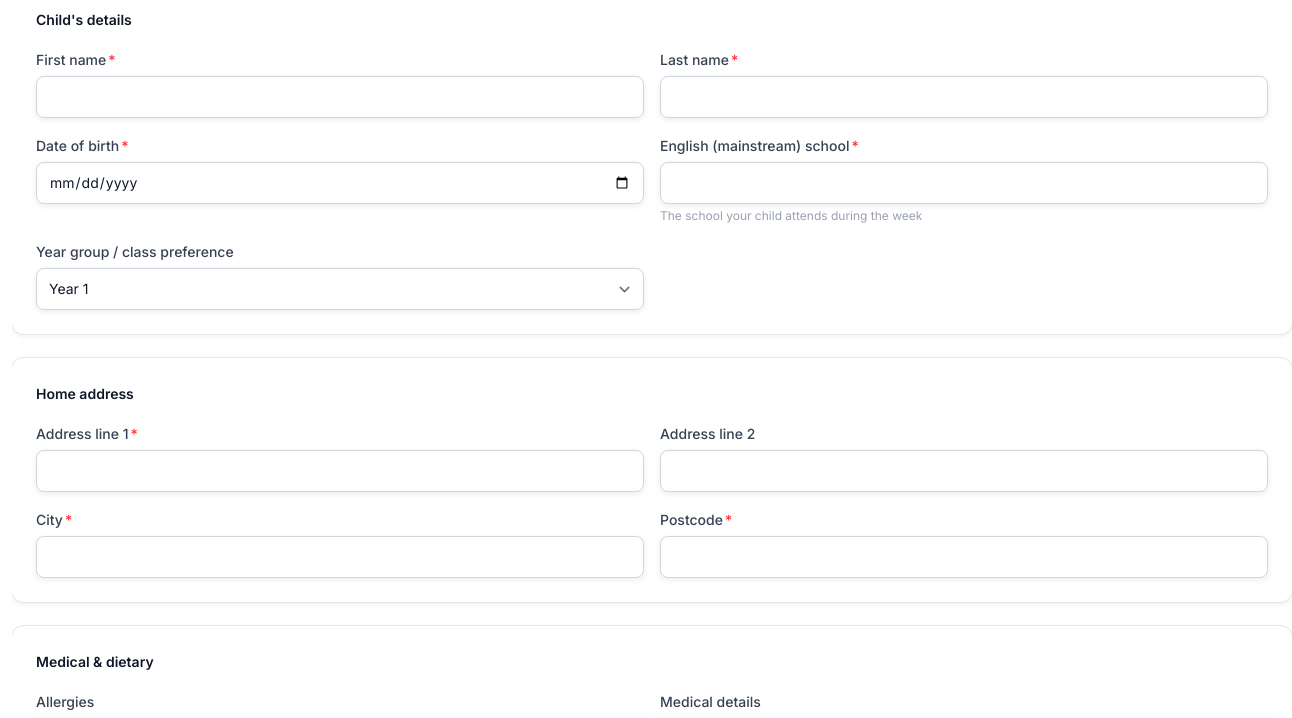
RegistrationForm › may leave unaccompanied › is unticked, and so not submitted, when the date of birth changes to a younger child
The width and height of the screenshot is (1292, 718).
Type "2010-01-01" into the date field labelled "Date of birth*" at (340, 183), box [36, 162, 644, 204]
(page scrolled)
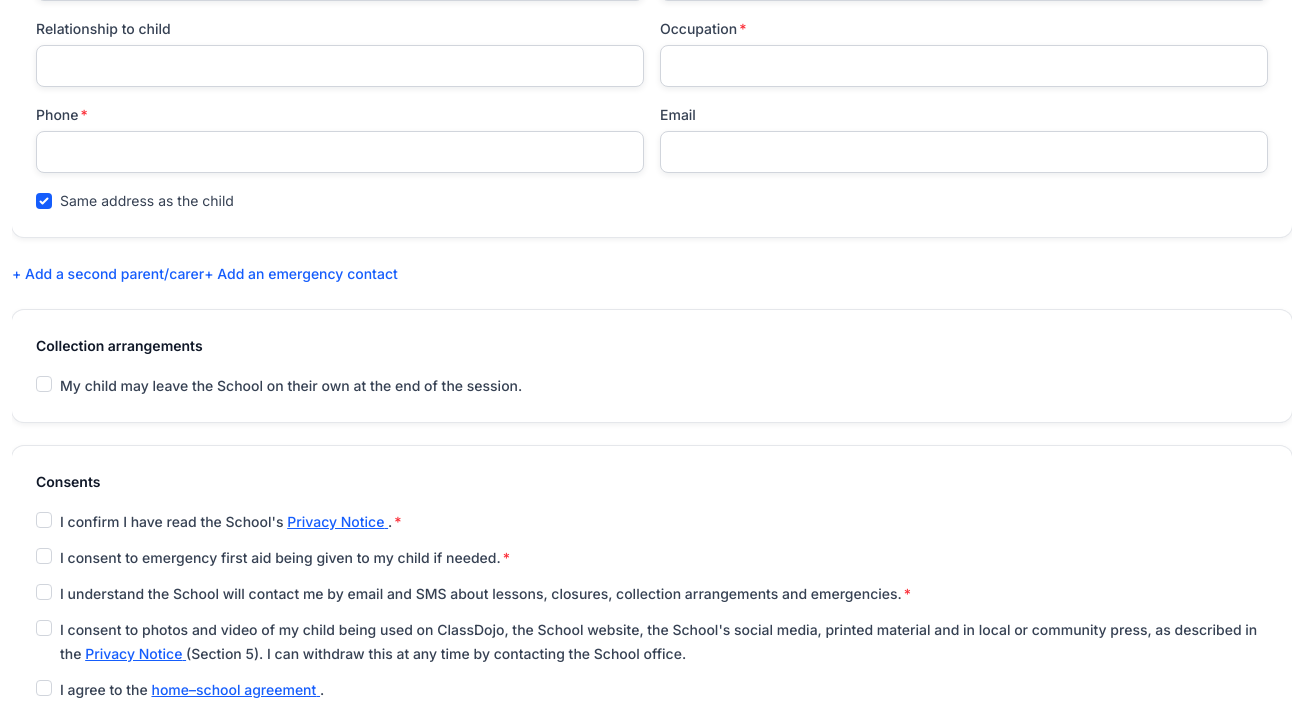
Click the checkbox labelled "My child may leave the School on their own at the end of the session." at (44, 384), box [36, 376, 52, 392]
(page scrolled)
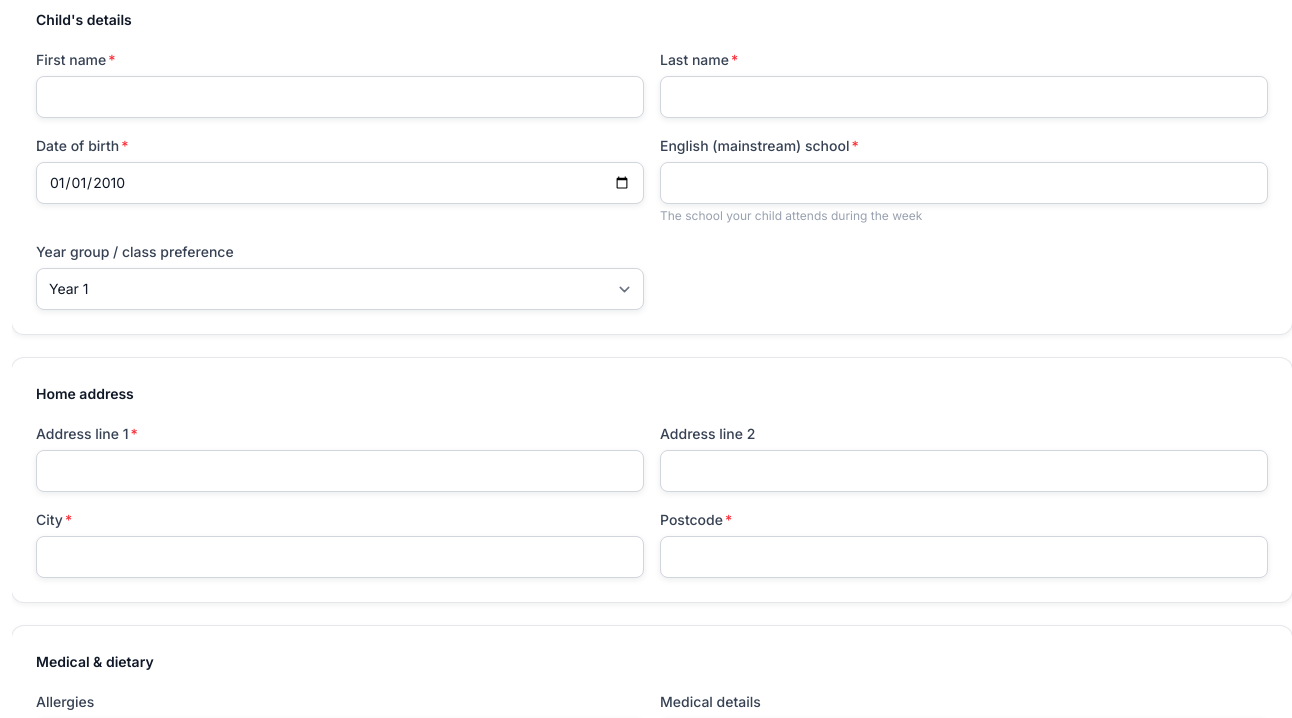
Type "2020-01-01" into the date field labelled "Date of birth*" at (340, 183), box [36, 162, 644, 204]
(page scrolled)
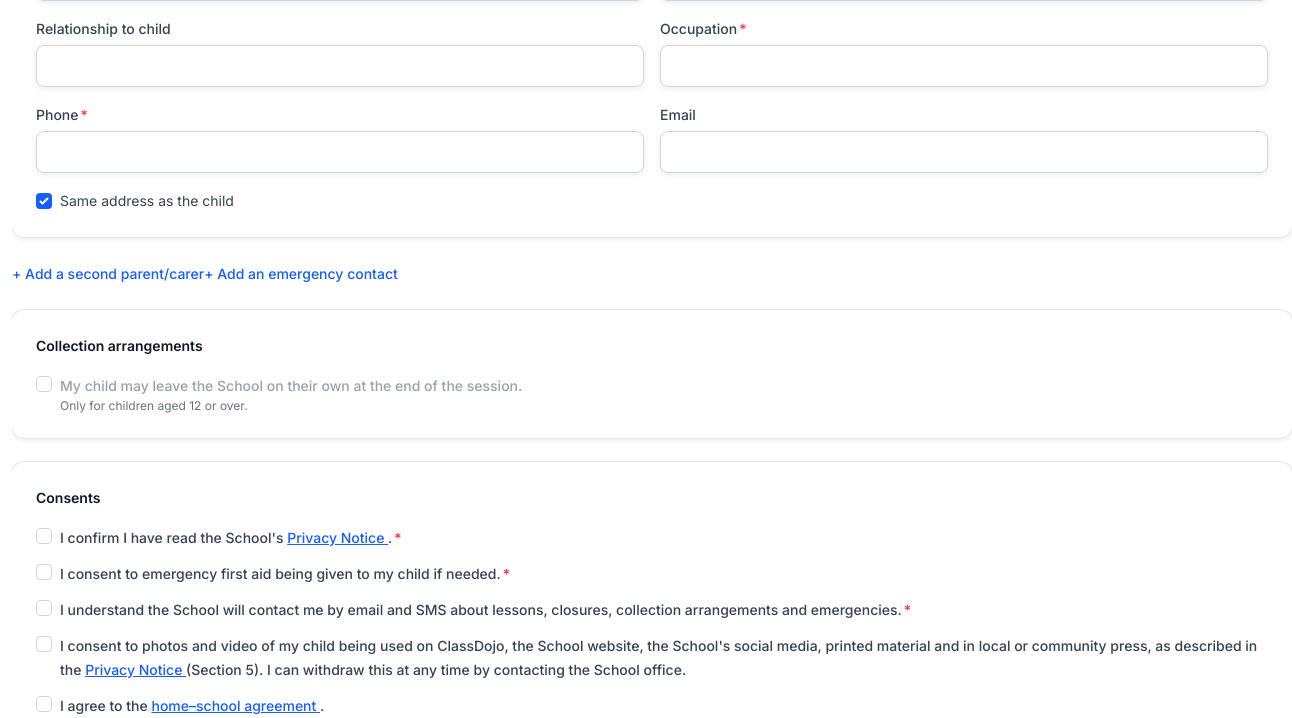
Result: the checkbox labelled "My child may leave the School on their own at the end of the session." is not checked at [36, 376, 52, 392]
Result: the checkbox labelled "My child may leave the School on their own at the end of the session." is disabled at [36, 376, 52, 392]
